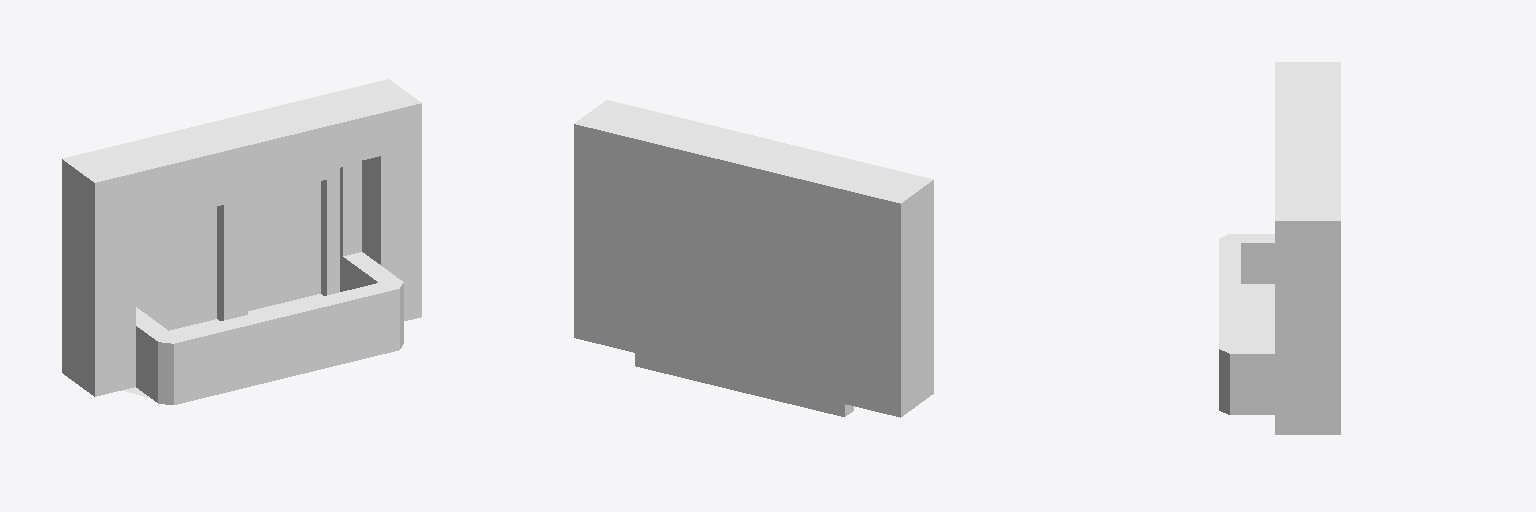
The model's file is balcony_white.obj.
3 renders of one model, left to right at view 1: azimuth 30°, elevation 25°; view 2: azimuth 150°, elevation 25°; view 3: azimuth 270°, elevation 25°, orthographic.
Parts seen in each view (by area): view 1: building-window-balcony; view 2: building-window-balcony; view 3: building-window-balcony.
Part boxes in pixels (x1,y1,x2,y2): building-window-balcony: (62,79,421,404); building-window-balcony: (574,100,933,417); building-window-balcony: (1219,62,1340,434).
Bounding box in the file's own units: 1 × 0.6696 × 0.3251.